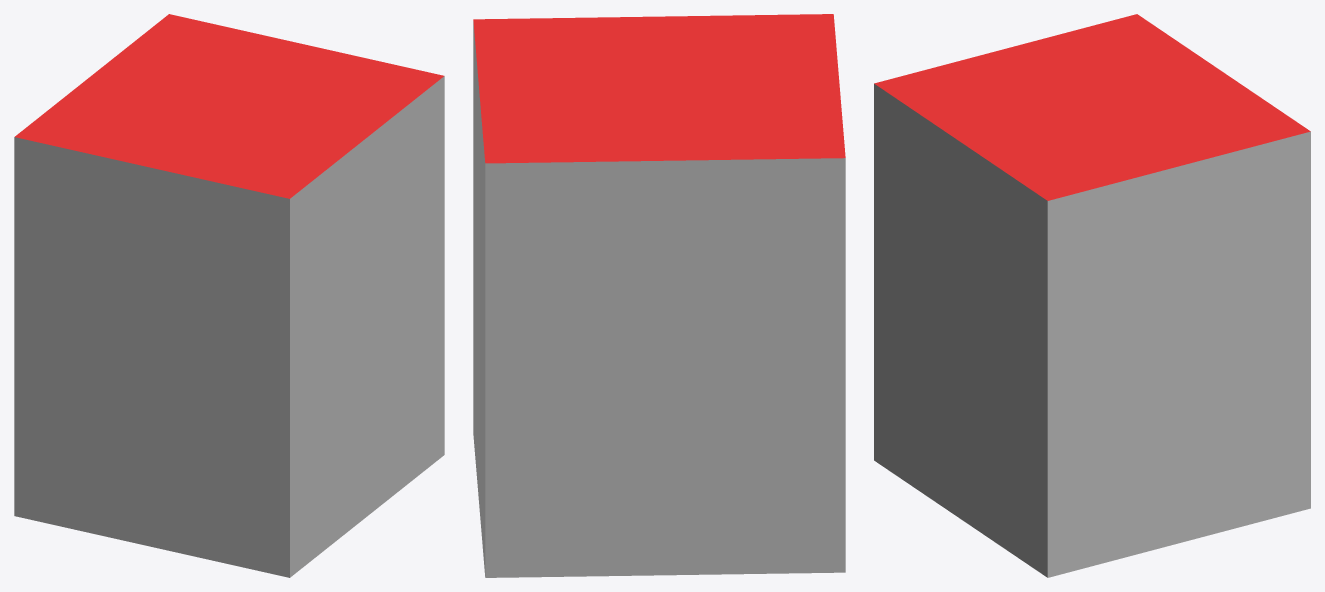
Rendered from ID_651daf99-3ede-4601-b663-0e9bfe796652.dae.
The picture shows the model from 3 angles, left to right: view 1: azimuth 30°, elevation 25°; view 2: azimuth 150°, elevation 25°; view 3: azimuth 270°, elevation 25°; orthographic projection. The views are drawn at different scales.
Size of the model in its own units: 13.83 by 13.66 by 13.
